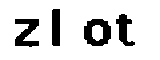l: (46, 7, 65, 47)
o: (81, 17, 112, 47)
t: (114, 11, 139, 49)
z: (9, 14, 42, 52)
